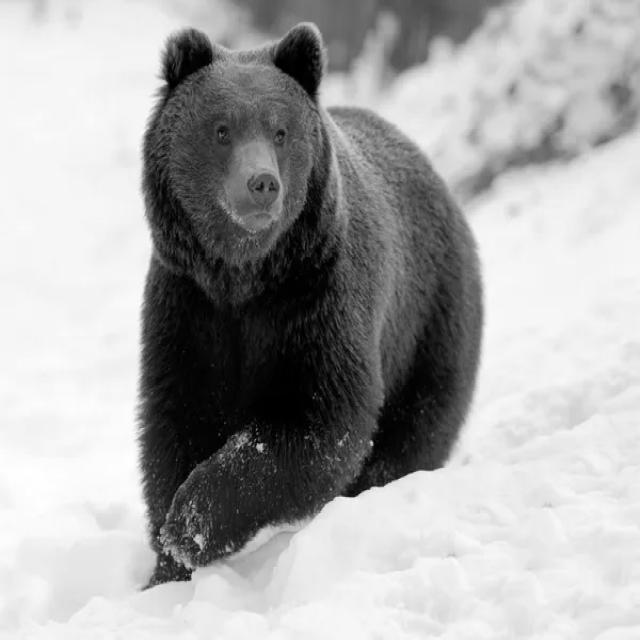Animal: (139, 23, 483, 586)
